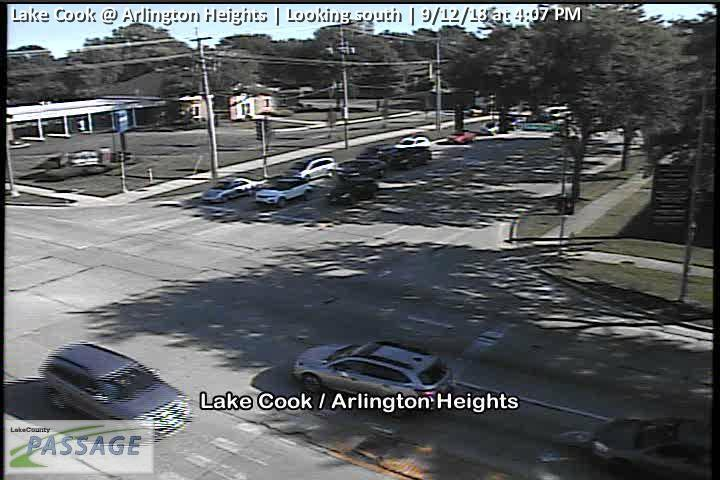SUV: (42, 343, 192, 441), (292, 341, 454, 417), (255, 175, 313, 208), (324, 176, 378, 205), (287, 154, 336, 183), (384, 146, 432, 171), (357, 142, 399, 165), (393, 135, 432, 154)
Sedan: (588, 416, 711, 479), (202, 177, 261, 204), (325, 159, 388, 179)
